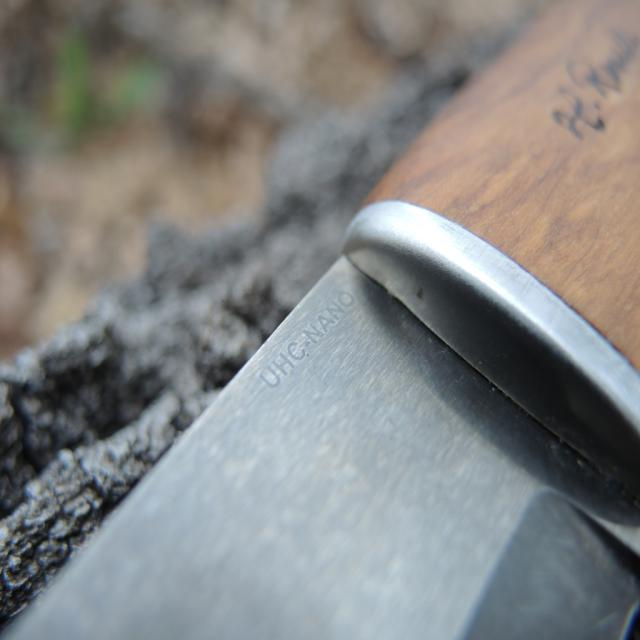Knife: (1, 2, 640, 639)
